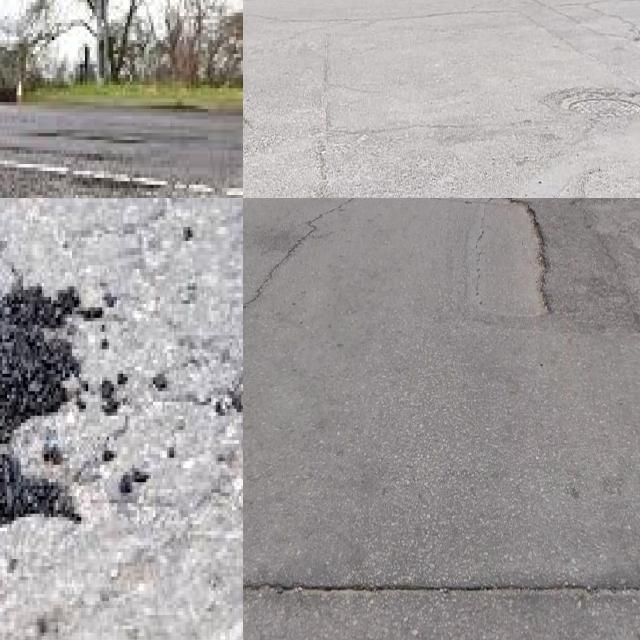Manhole: (568, 96, 640, 117)
Pothole: (0, 283, 100, 507), (476, 198, 552, 321)
